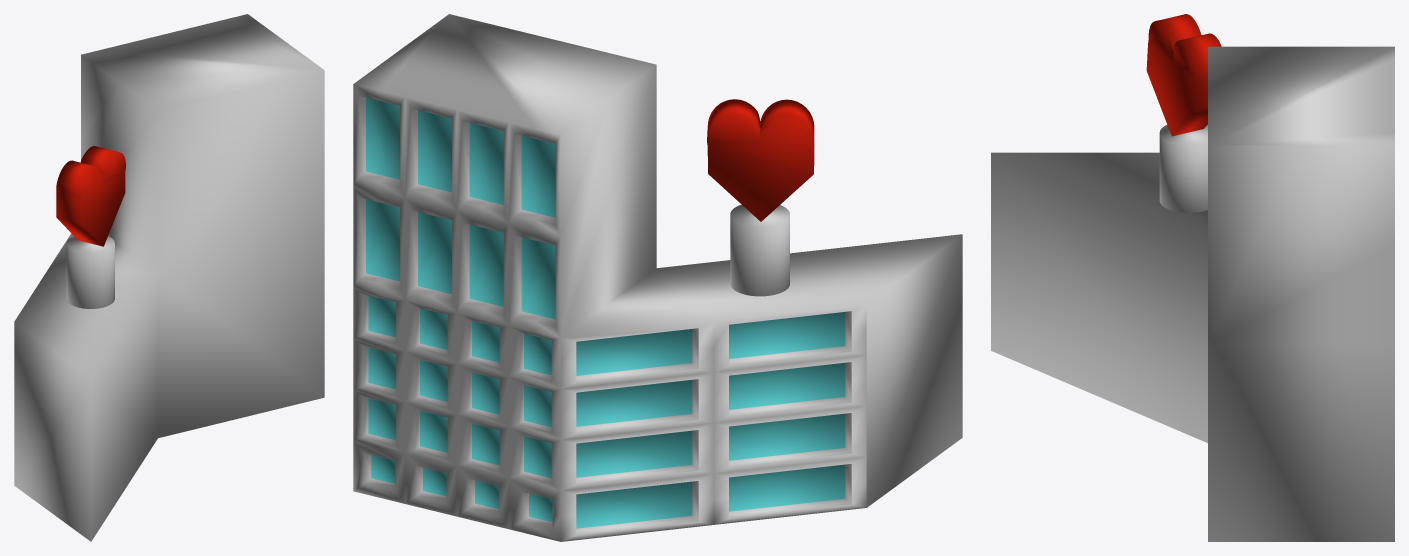
Rendered from insurance.fbx.
The picture shows the model from 3 angles, left to right: view 1: azimuth 30°, elevation 25°; view 2: azimuth 150°, elevation 25°; view 3: azimuth 270°, elevation 25°; orthographic projection. The views are drawn at different scales.
Parts seen in each view (by area): view 1: Cube; view 2: Cube; view 3: Cube.
Part boxes in pixels (x1,y1,x2,y2): Cube: (14,14,324,541); Cube: (353,14,962,541); Cube: (991,14,1394,541).
Size of the model in its own units: 310 by 300 by 277.
